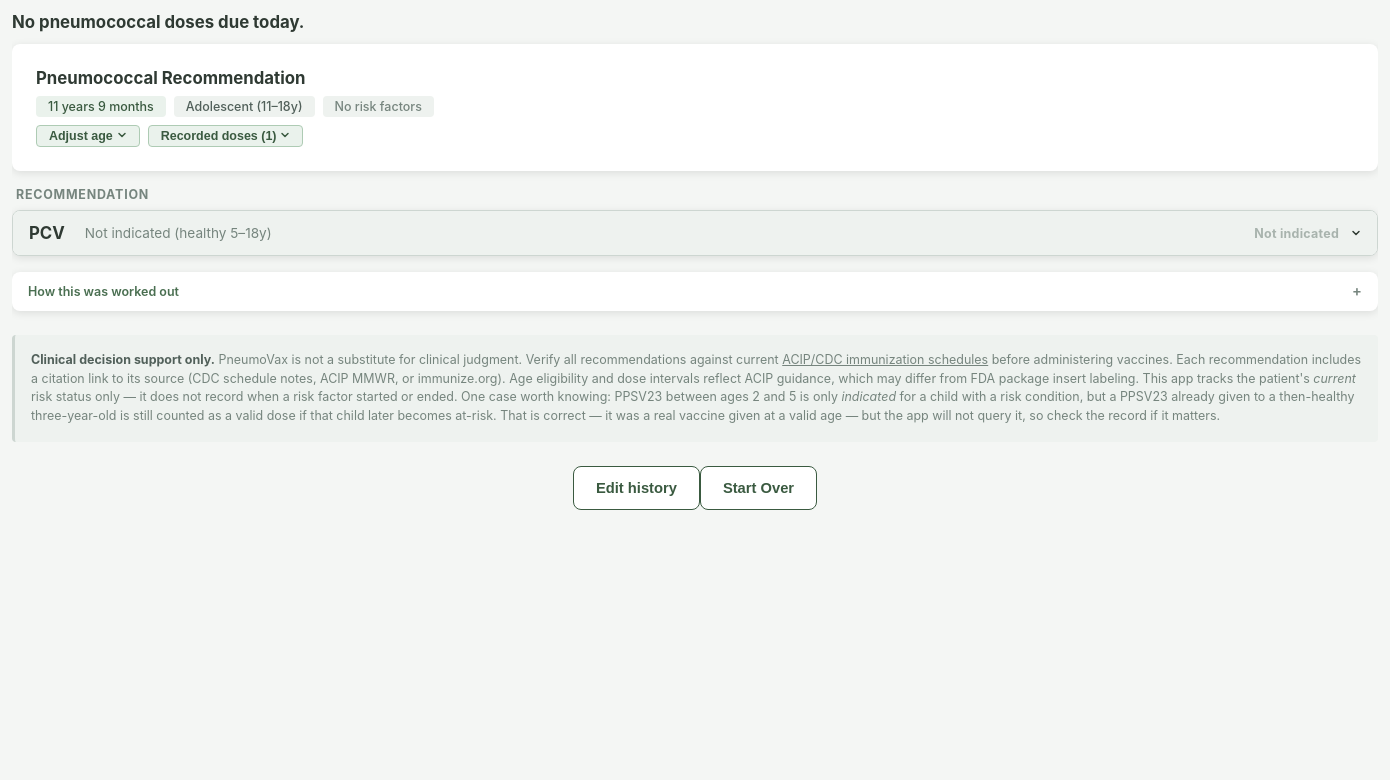
Test: S11 / P5-5 — Escape closes the Results panels › closes the age panel
The image size is (1390, 780).
Click the button "Adjust age". click: [88, 136]
box: [36,125,140,147]
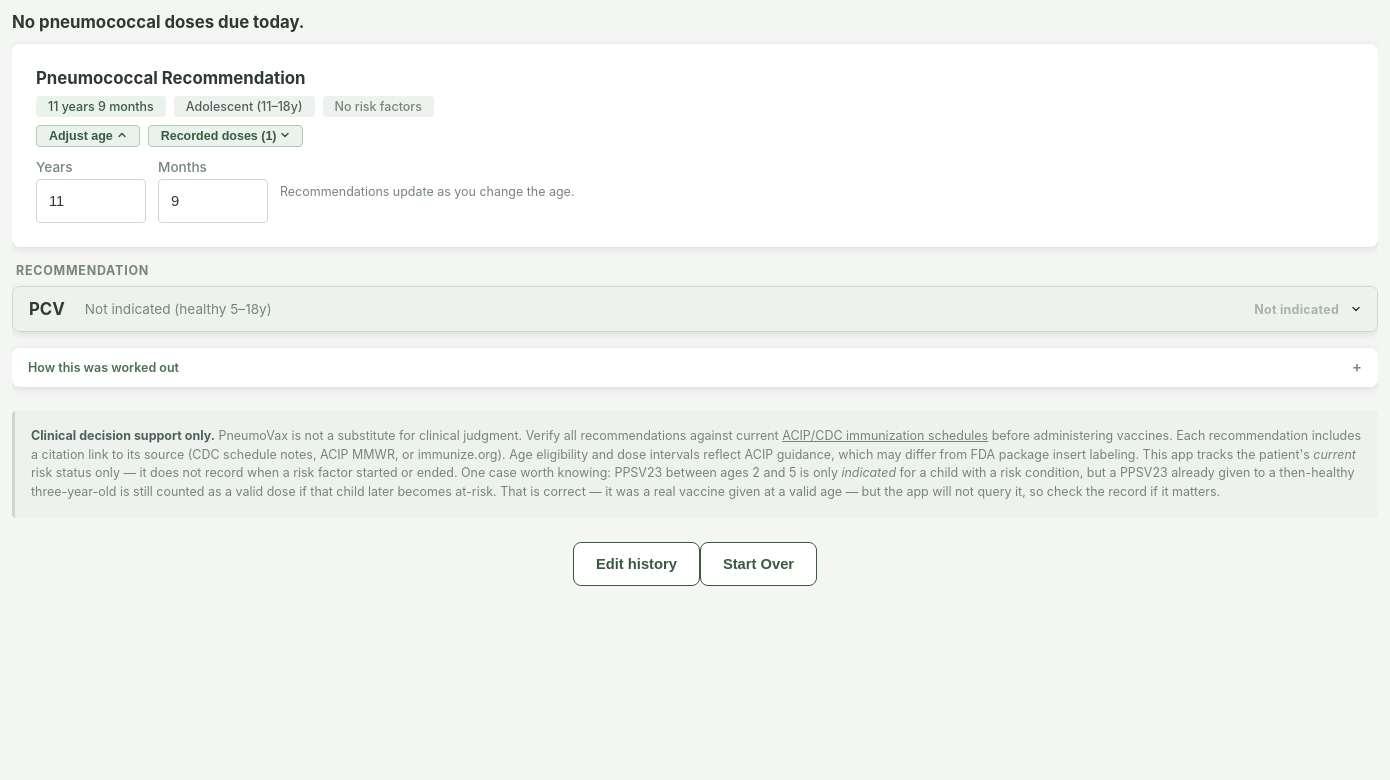
Result: the number of number fields with id "results-years" is 1 at [36,179,146,223]
Press Escape
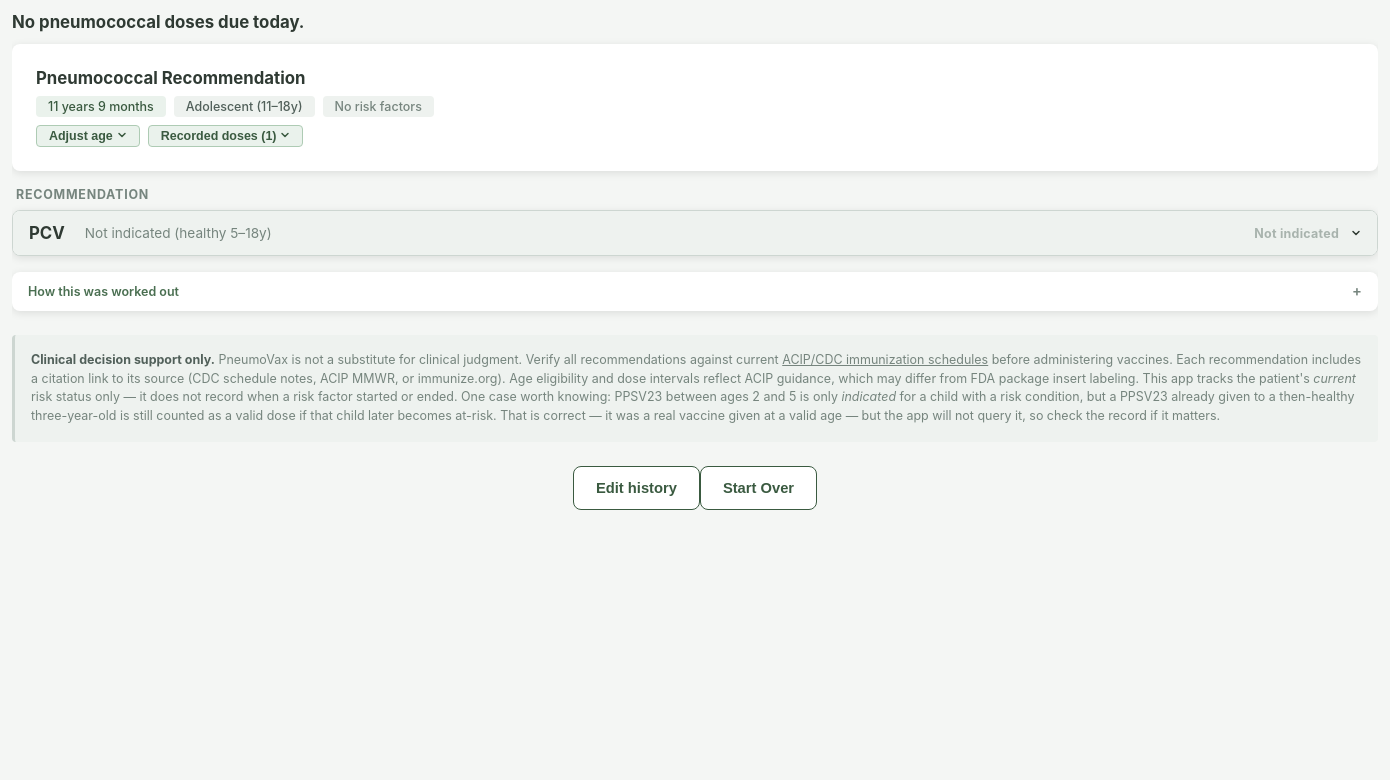
Result: no labels with id "results-years" are shown
